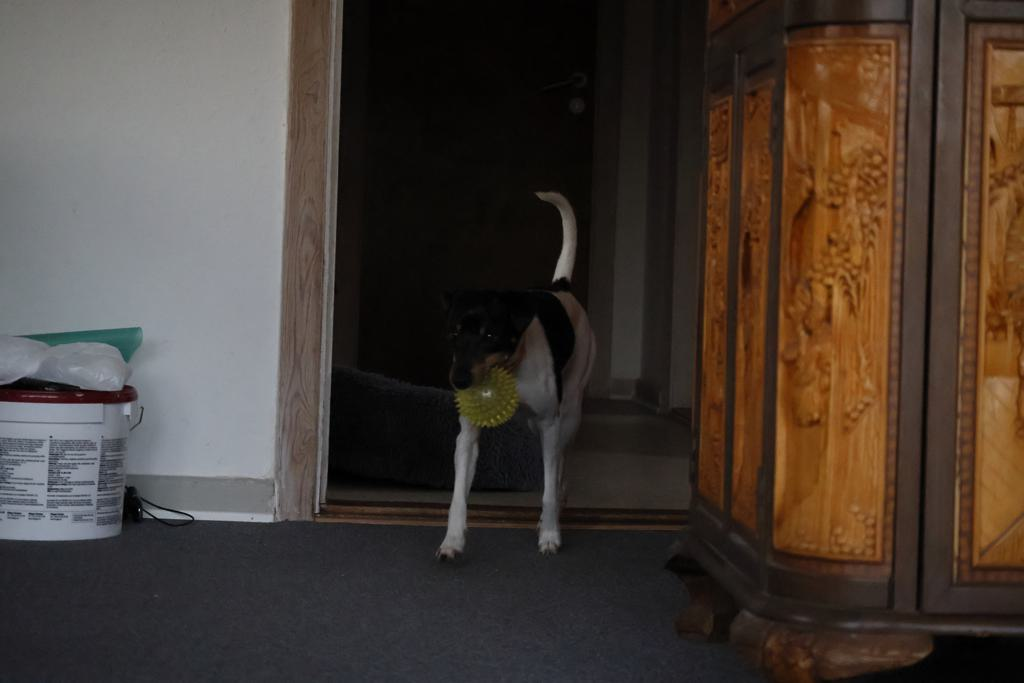Dog: (404, 175, 608, 576)
